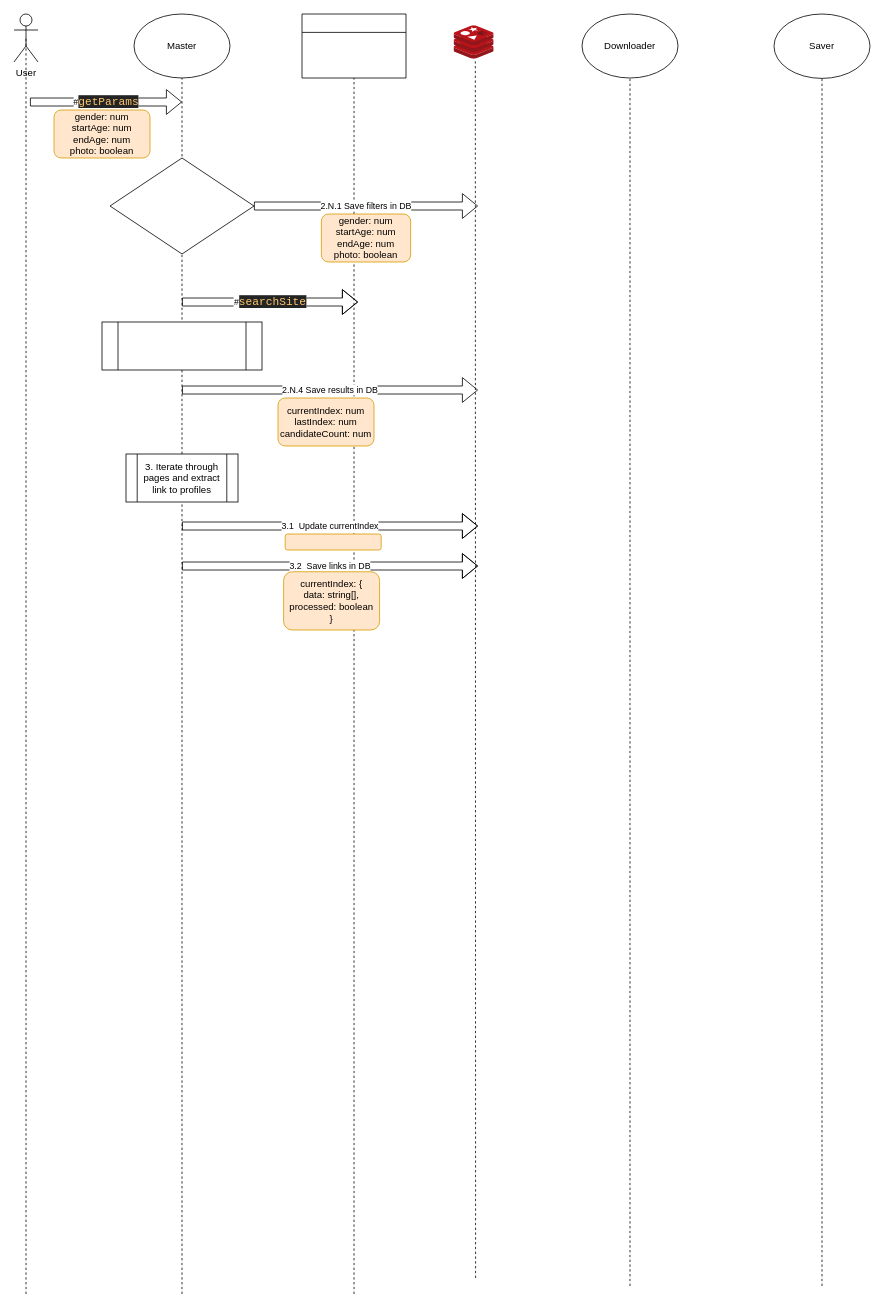
Image size: 884x1309. Some labels were removed from this diagram. Here are the shapes that lost their labels. From the top down, the box of each, then its label:
(301, 13, 406, 78): fdating.com
(109, 157, 254, 254): # compareFilters
(101, 321, 262, 370): # searchPageParser
(284, 533, 381, 550): currentIndex: num
